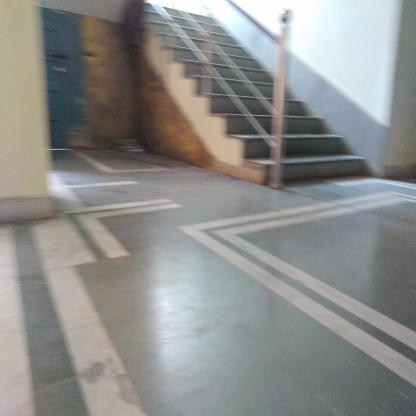stairs: (288, 114, 327, 189)
